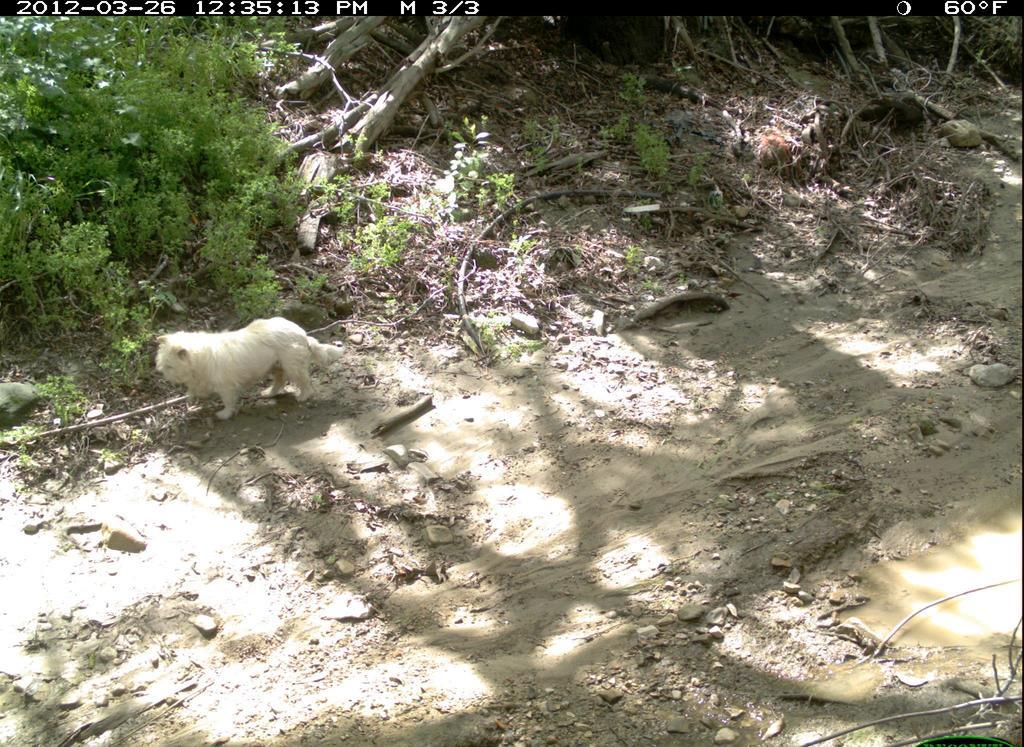dog: (134, 301, 359, 437)
